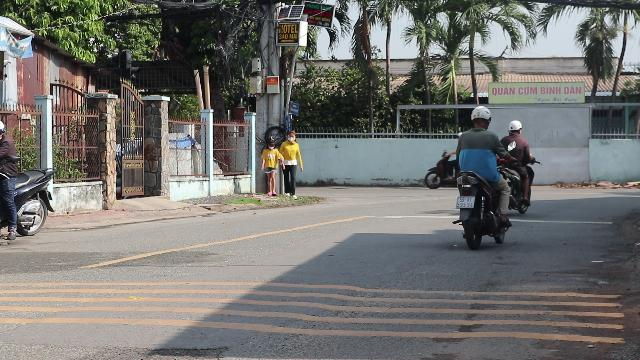helmet: (468, 105, 492, 129)
licenseplate: (457, 196, 475, 208)
motorcyclist: (449, 105, 511, 247)
